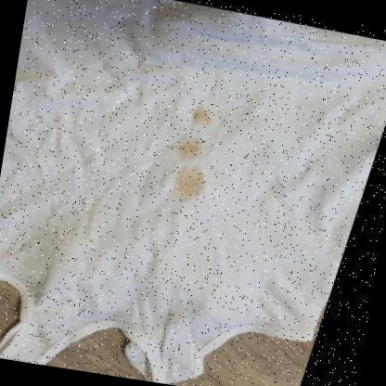coffee: (173, 167, 205, 203), (178, 137, 202, 161), (192, 108, 211, 129)
